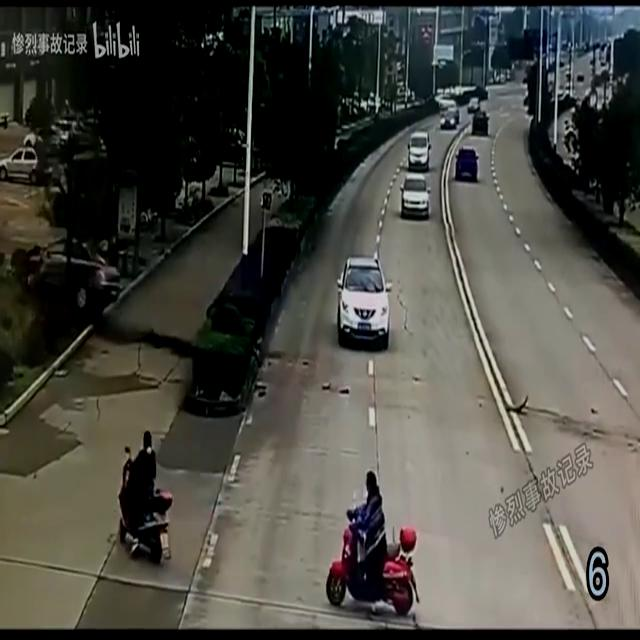accident: (21, 238, 120, 308)
non-accident: (3, 109, 92, 183)
